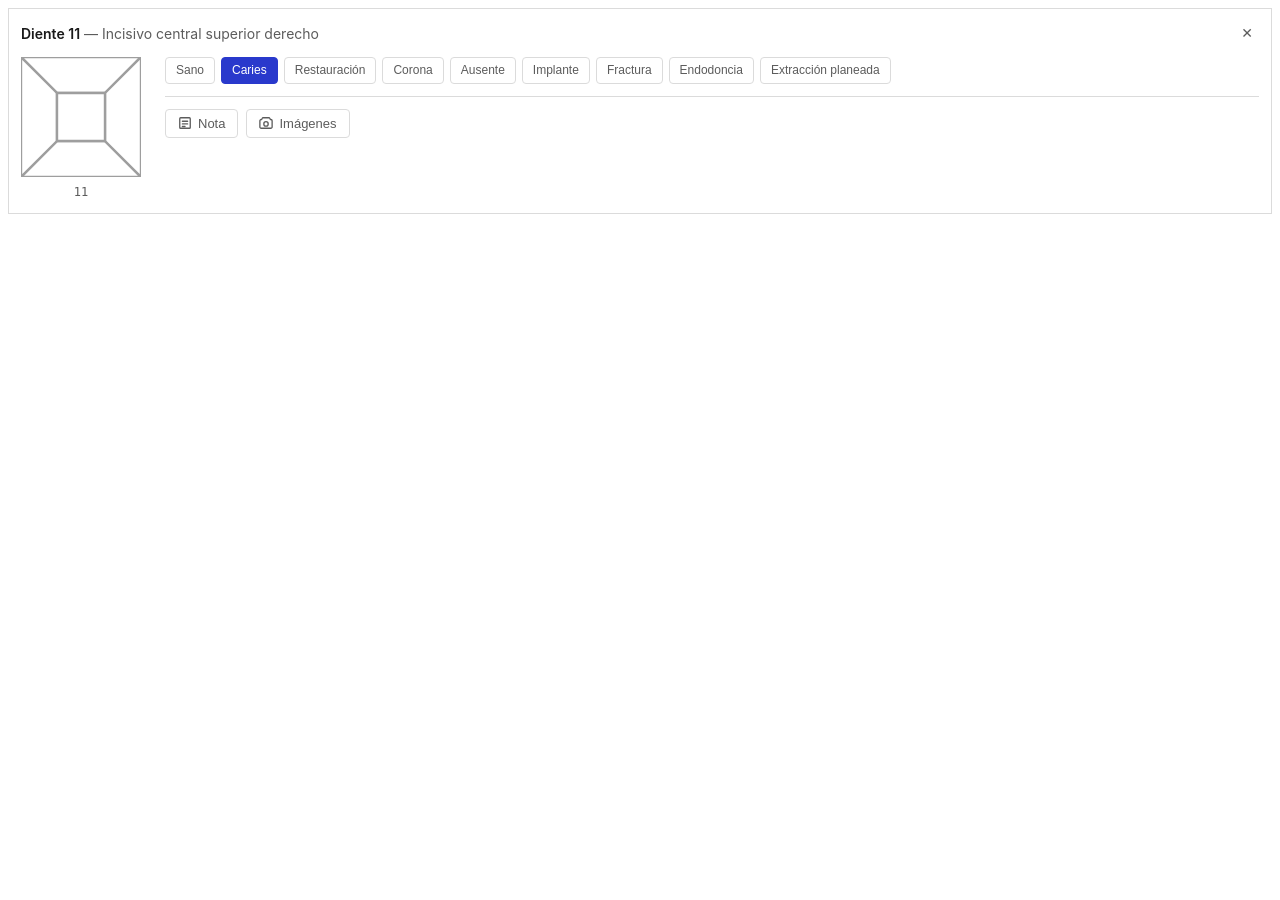
Test: ToothDetail — interaction › opens the image popover for the tooth
This screenshot has width=1280, height=900.
Click the button with aria-label "Imágenes del diente 11" at (298, 123), box [246, 109, 350, 138]
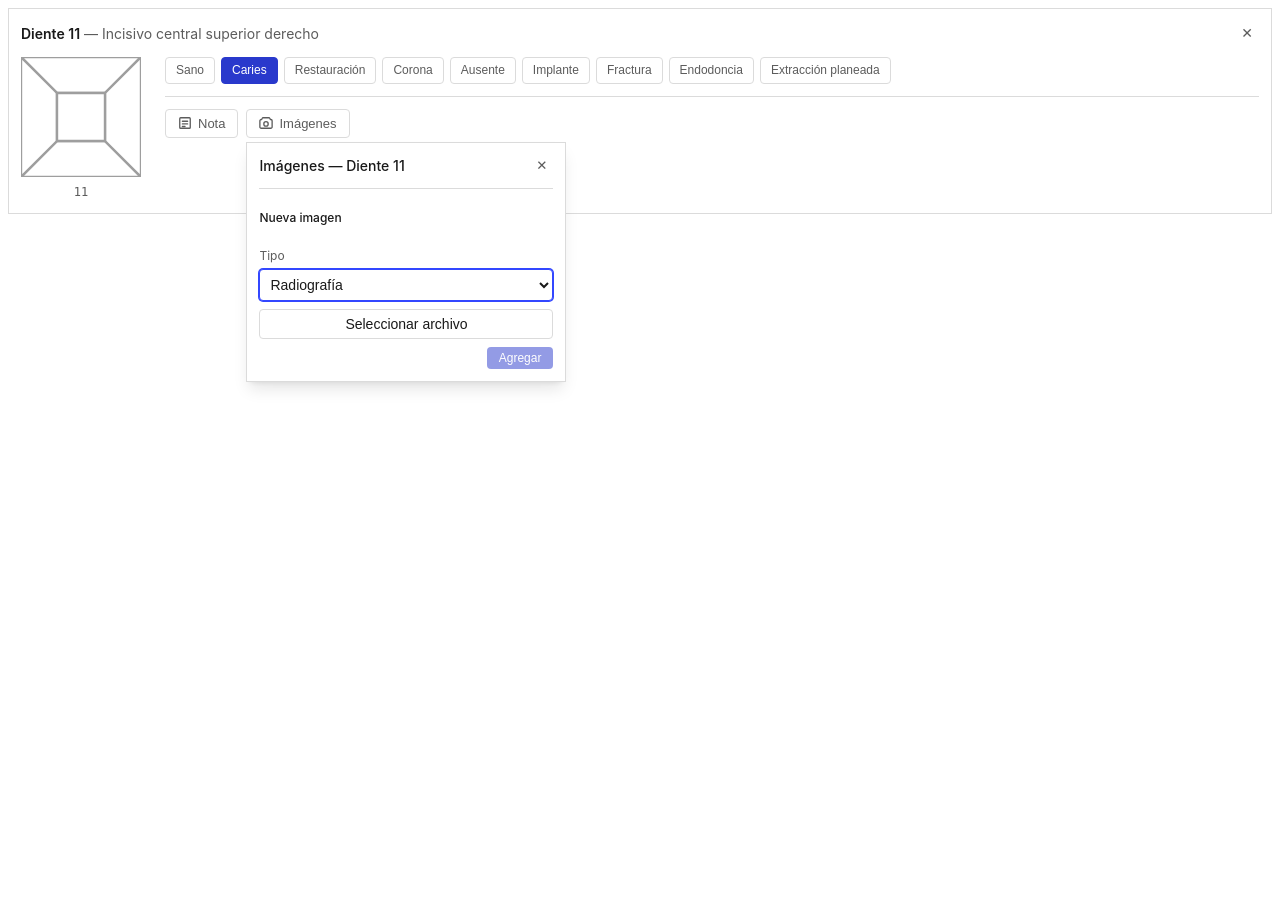
Now the dialog named "Imágenes del diente 11" is shown, box [246, 142, 566, 382]
